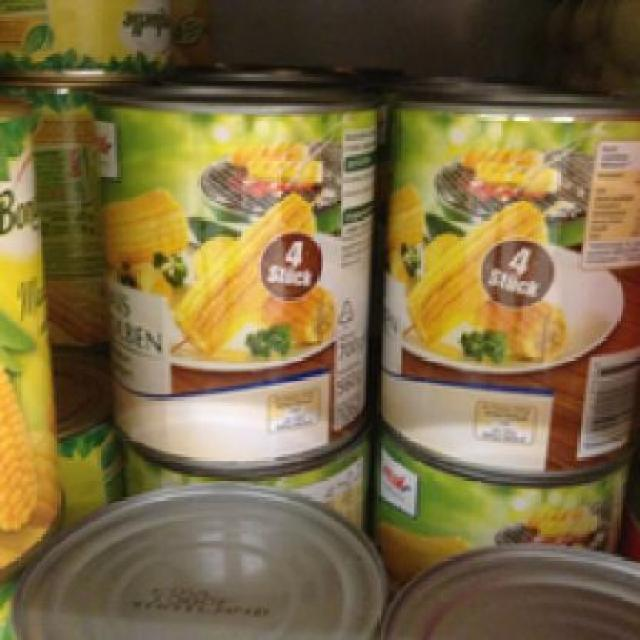Corn: (89, 72, 374, 474), (374, 82, 637, 488)
